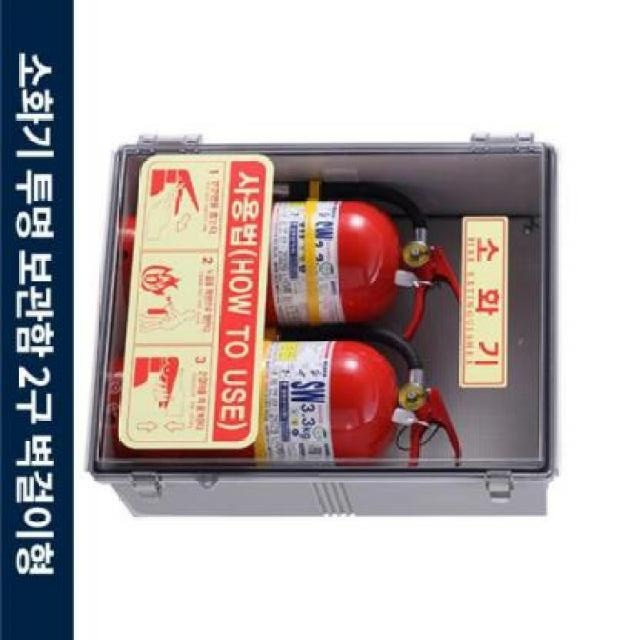fire extinguisher: (110, 327, 462, 468), (263, 178, 462, 338)
